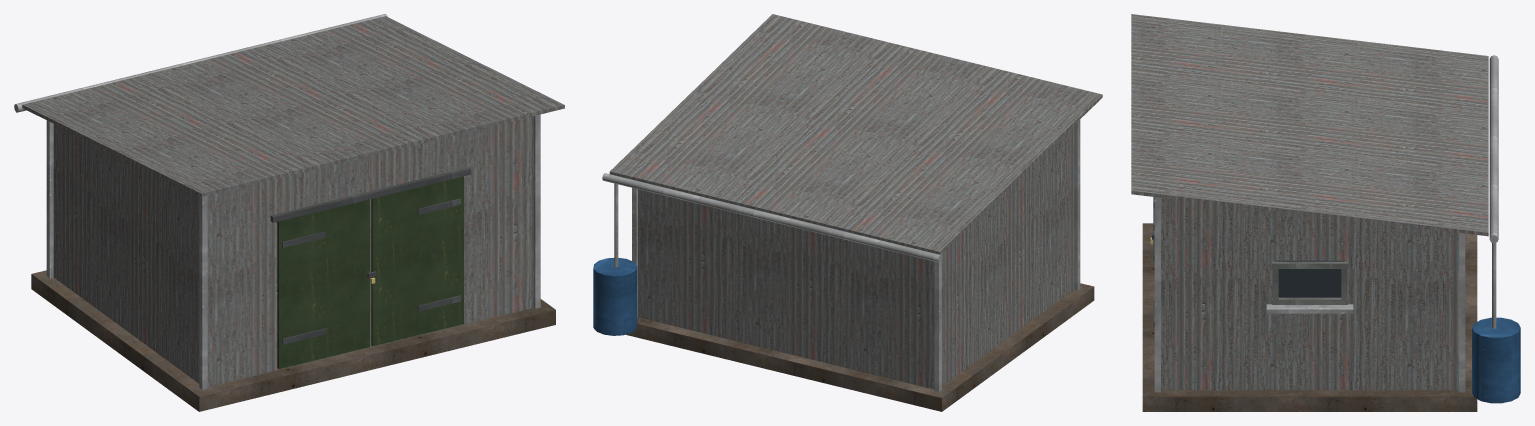
Rendered from shed.glb.
3 views of the same model, side by side, from view 1: azimuth 30°, elevation 25°; view 2: azimuth 150°, elevation 25°; view 3: azimuth 270°, elevation 25° (orthographic). The views are drawn at different scales.
Visible parts, largest first — view 1: shed; view 2: shed; view 3: shed.
Part boxes in pixels (box(x1,y1,x2,y2)): shed: box(14, 14, 564, 411); shed: box(593, 14, 1102, 411); shed: box(1131, 14, 1520, 411).
Bounding box in the file's own units: 5.71 × 3.23 × 5.12.
9 materials, 7 textured.
